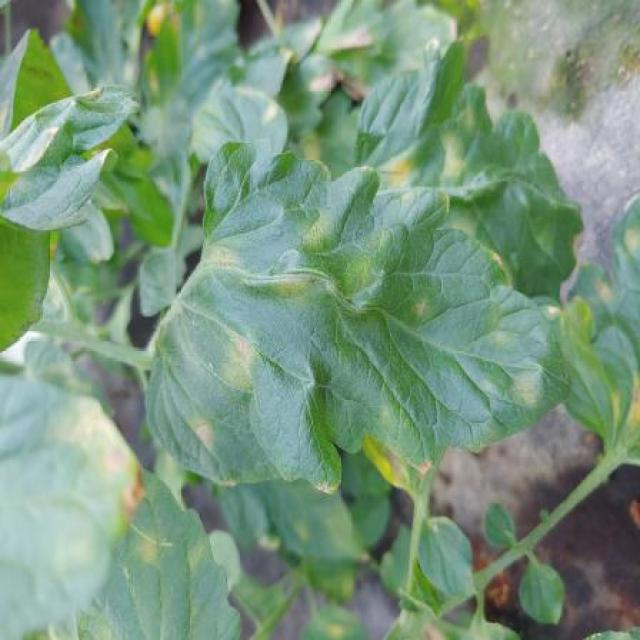Leaf Mold: (143, 137, 573, 500)
